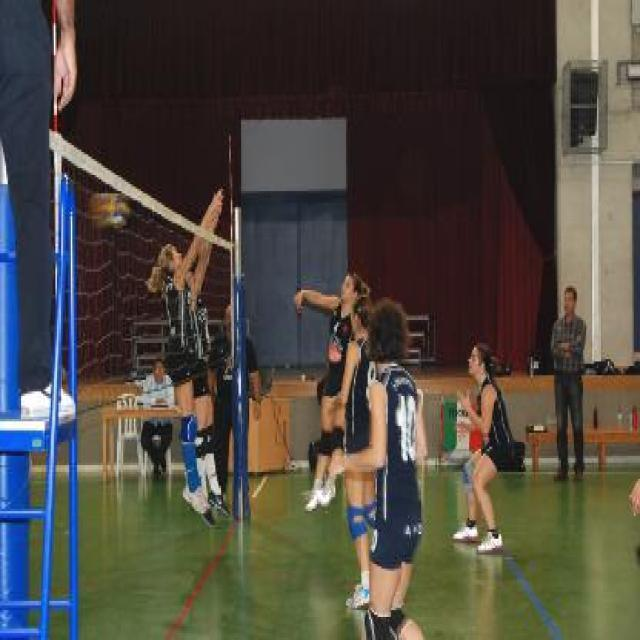volleyball: (88, 195, 130, 228)
